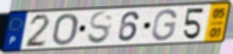2: (24, 13, 53, 48)
5: (182, 7, 205, 40)
6: (117, 10, 141, 43)
G: (150, 8, 179, 42)
O: (51, 12, 80, 47)
S: (85, 10, 115, 46)
